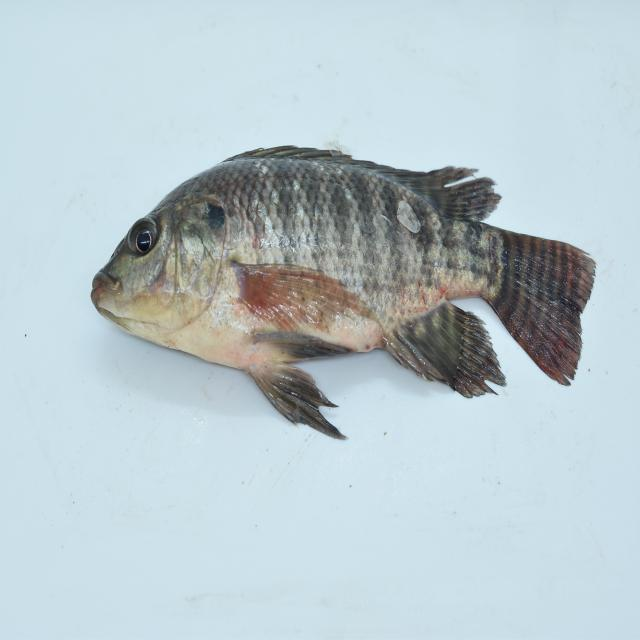Columnaris Disease: (62, 138, 626, 454)
